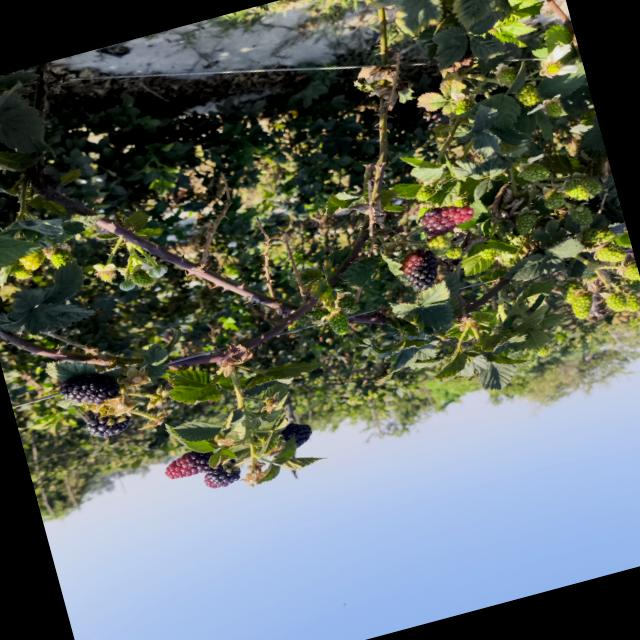maduro: (61, 374, 120, 404), (86, 414, 130, 437)
marron: (419, 205, 474, 235), (402, 249, 438, 289), (165, 451, 212, 478), (205, 459, 241, 488)
verde: (563, 177, 601, 200), (528, 94, 566, 117), (595, 243, 626, 262), (571, 291, 592, 318), (521, 163, 550, 181), (569, 205, 593, 225), (516, 213, 536, 234), (544, 190, 566, 209), (605, 292, 626, 311), (623, 293, 640, 311), (624, 262, 640, 280)
